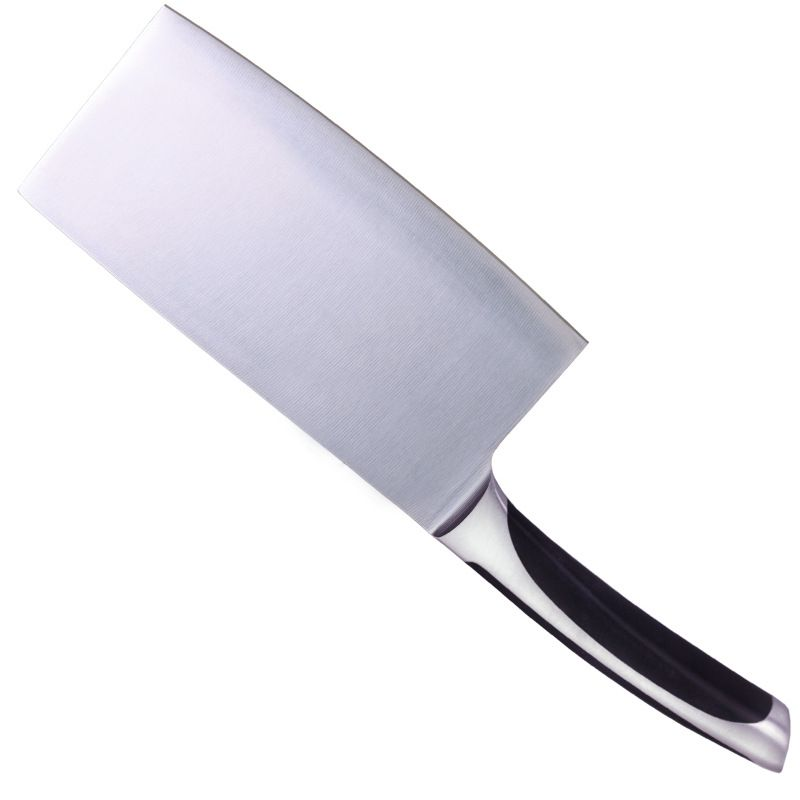knief: (36, 43, 740, 712)
